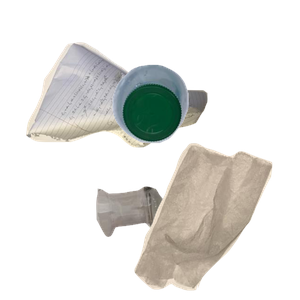glass: (94, 184, 253, 300)
paper: (23, 40, 223, 180)
plastic: (110, 62, 300, 198)
trash: (132, 140, 300, 300)
